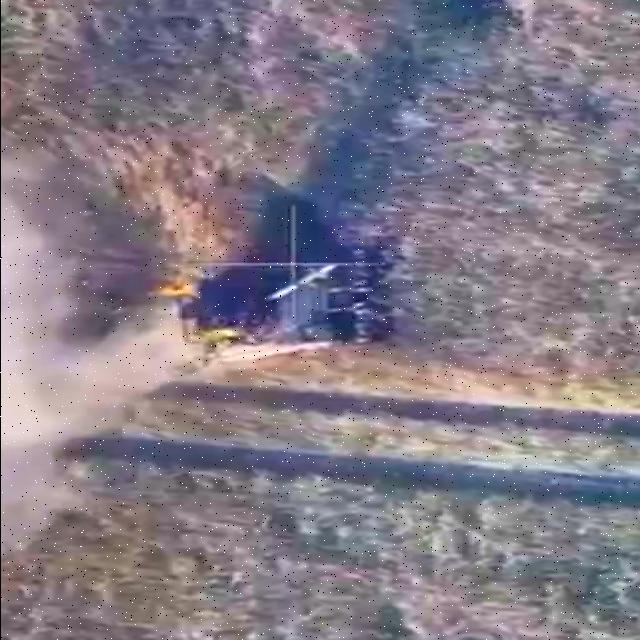TANK: (170, 259, 383, 359)
